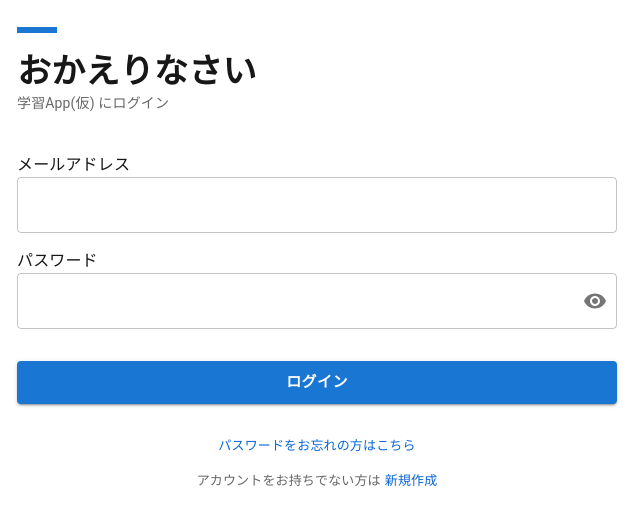
Test: Login › パスワードが8文字未満だとエラーが表示される
In the field: (317, 205) [17,177,617,233], type "hina@example.com"
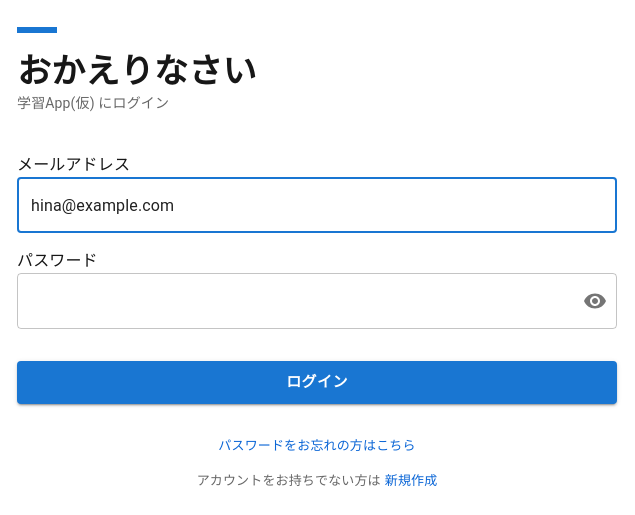
In the password field named "password": (292, 301) [17,273,567,329], type "short"
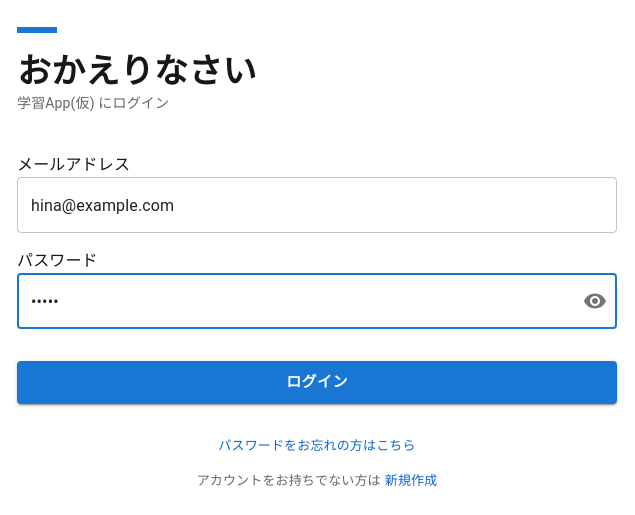
Click the button "ログイン": click(317, 383) [17,361,617,404]
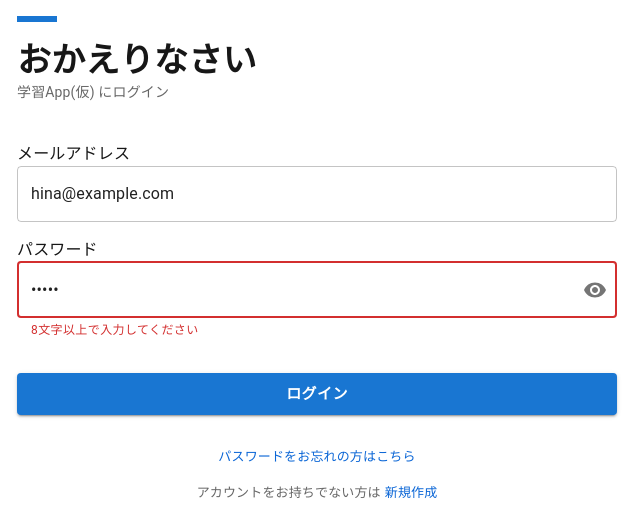
Check: the text "8文字以上で入力してください" is shown, box [31,323,199,337]
